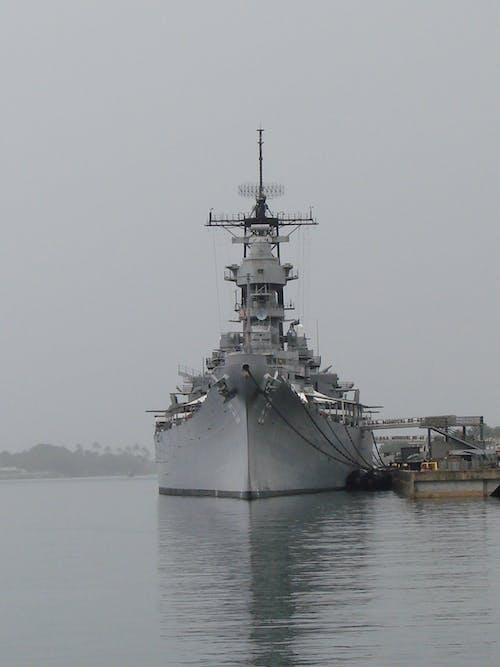MIL_Ship: (151, 135, 375, 498)
